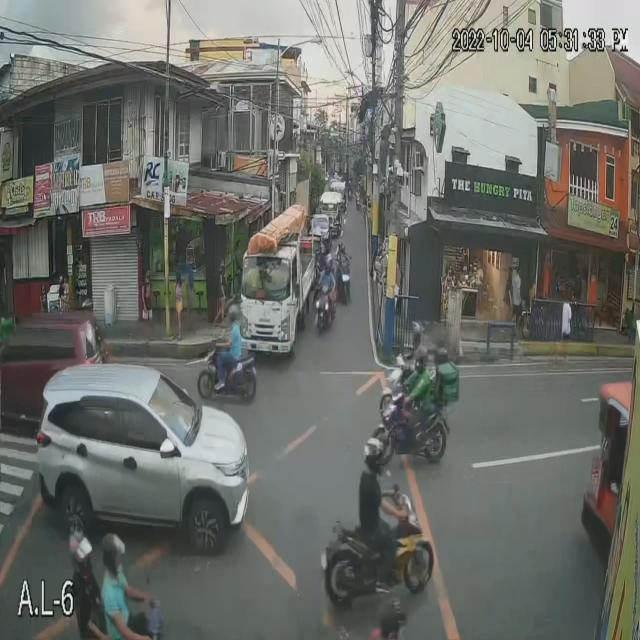full: (68, 531, 91, 578), (363, 439, 385, 476), (414, 348, 427, 373)
half: (101, 532, 126, 574)
